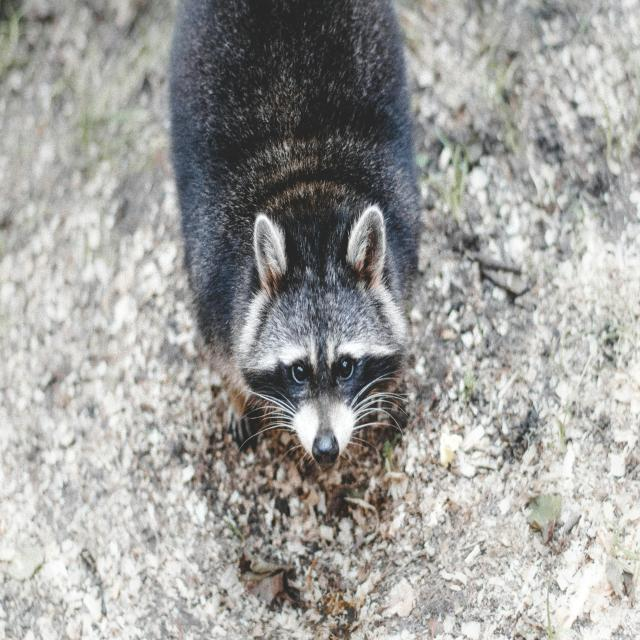Raccoon: (170, 0, 428, 472)
